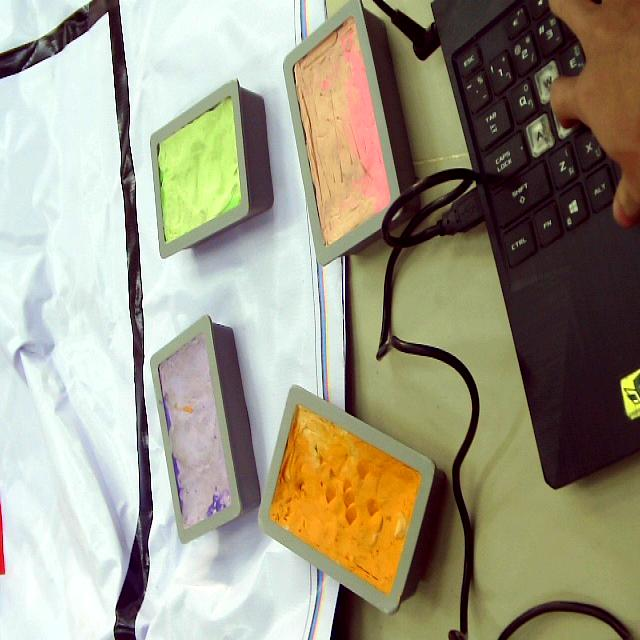block: (258, 384, 443, 616), (281, 3, 421, 267), (148, 314, 261, 541), (149, 78, 273, 258)
